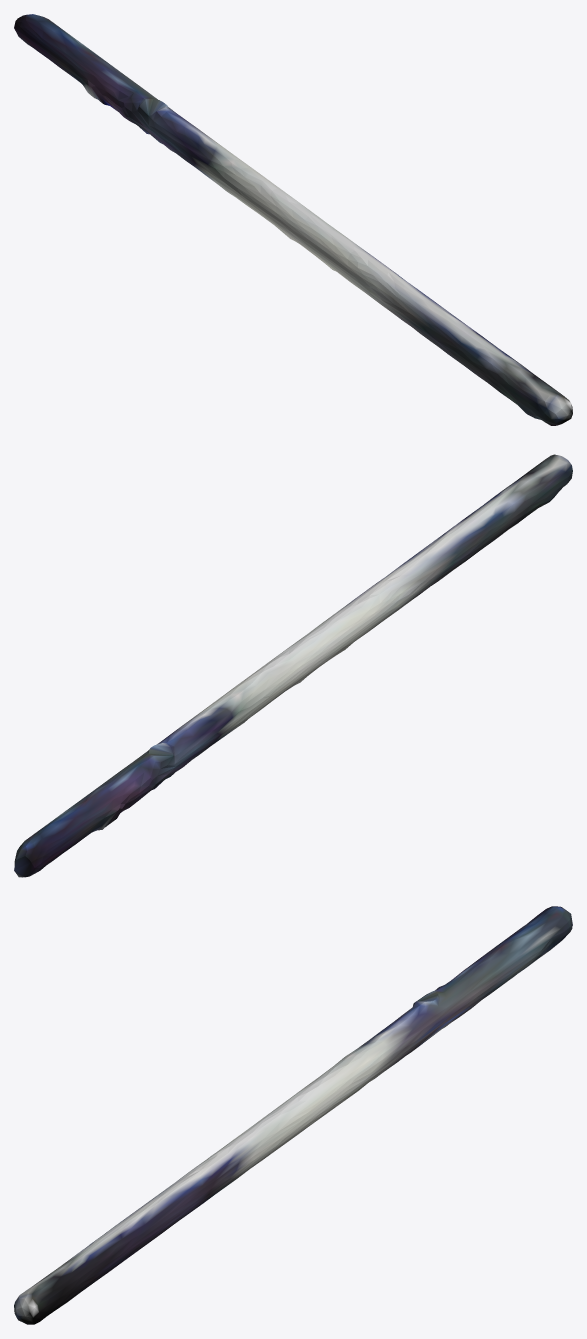
File: scan.obj
The picture shows the model from 3 angles, top to bottom: view 1: azimuth 30°, elevation 25°; view 2: azimuth 150°, elevation 25°; view 3: azimuth 330°, elevation 25°; orthographic projection.
Visible parts, largest first — view 1: scan.ply; view 2: scan.ply; view 3: scan.ply.
Part boxes in pixels (box(x1,y1,x2,y2)): scan.ply: box(14, 14, 572, 425); scan.ply: box(14, 454, 572, 877); scan.ply: box(14, 906, 572, 1324).
Bounding box in the file's own units: 0.00669 × 0.0078 × 0.1995.
